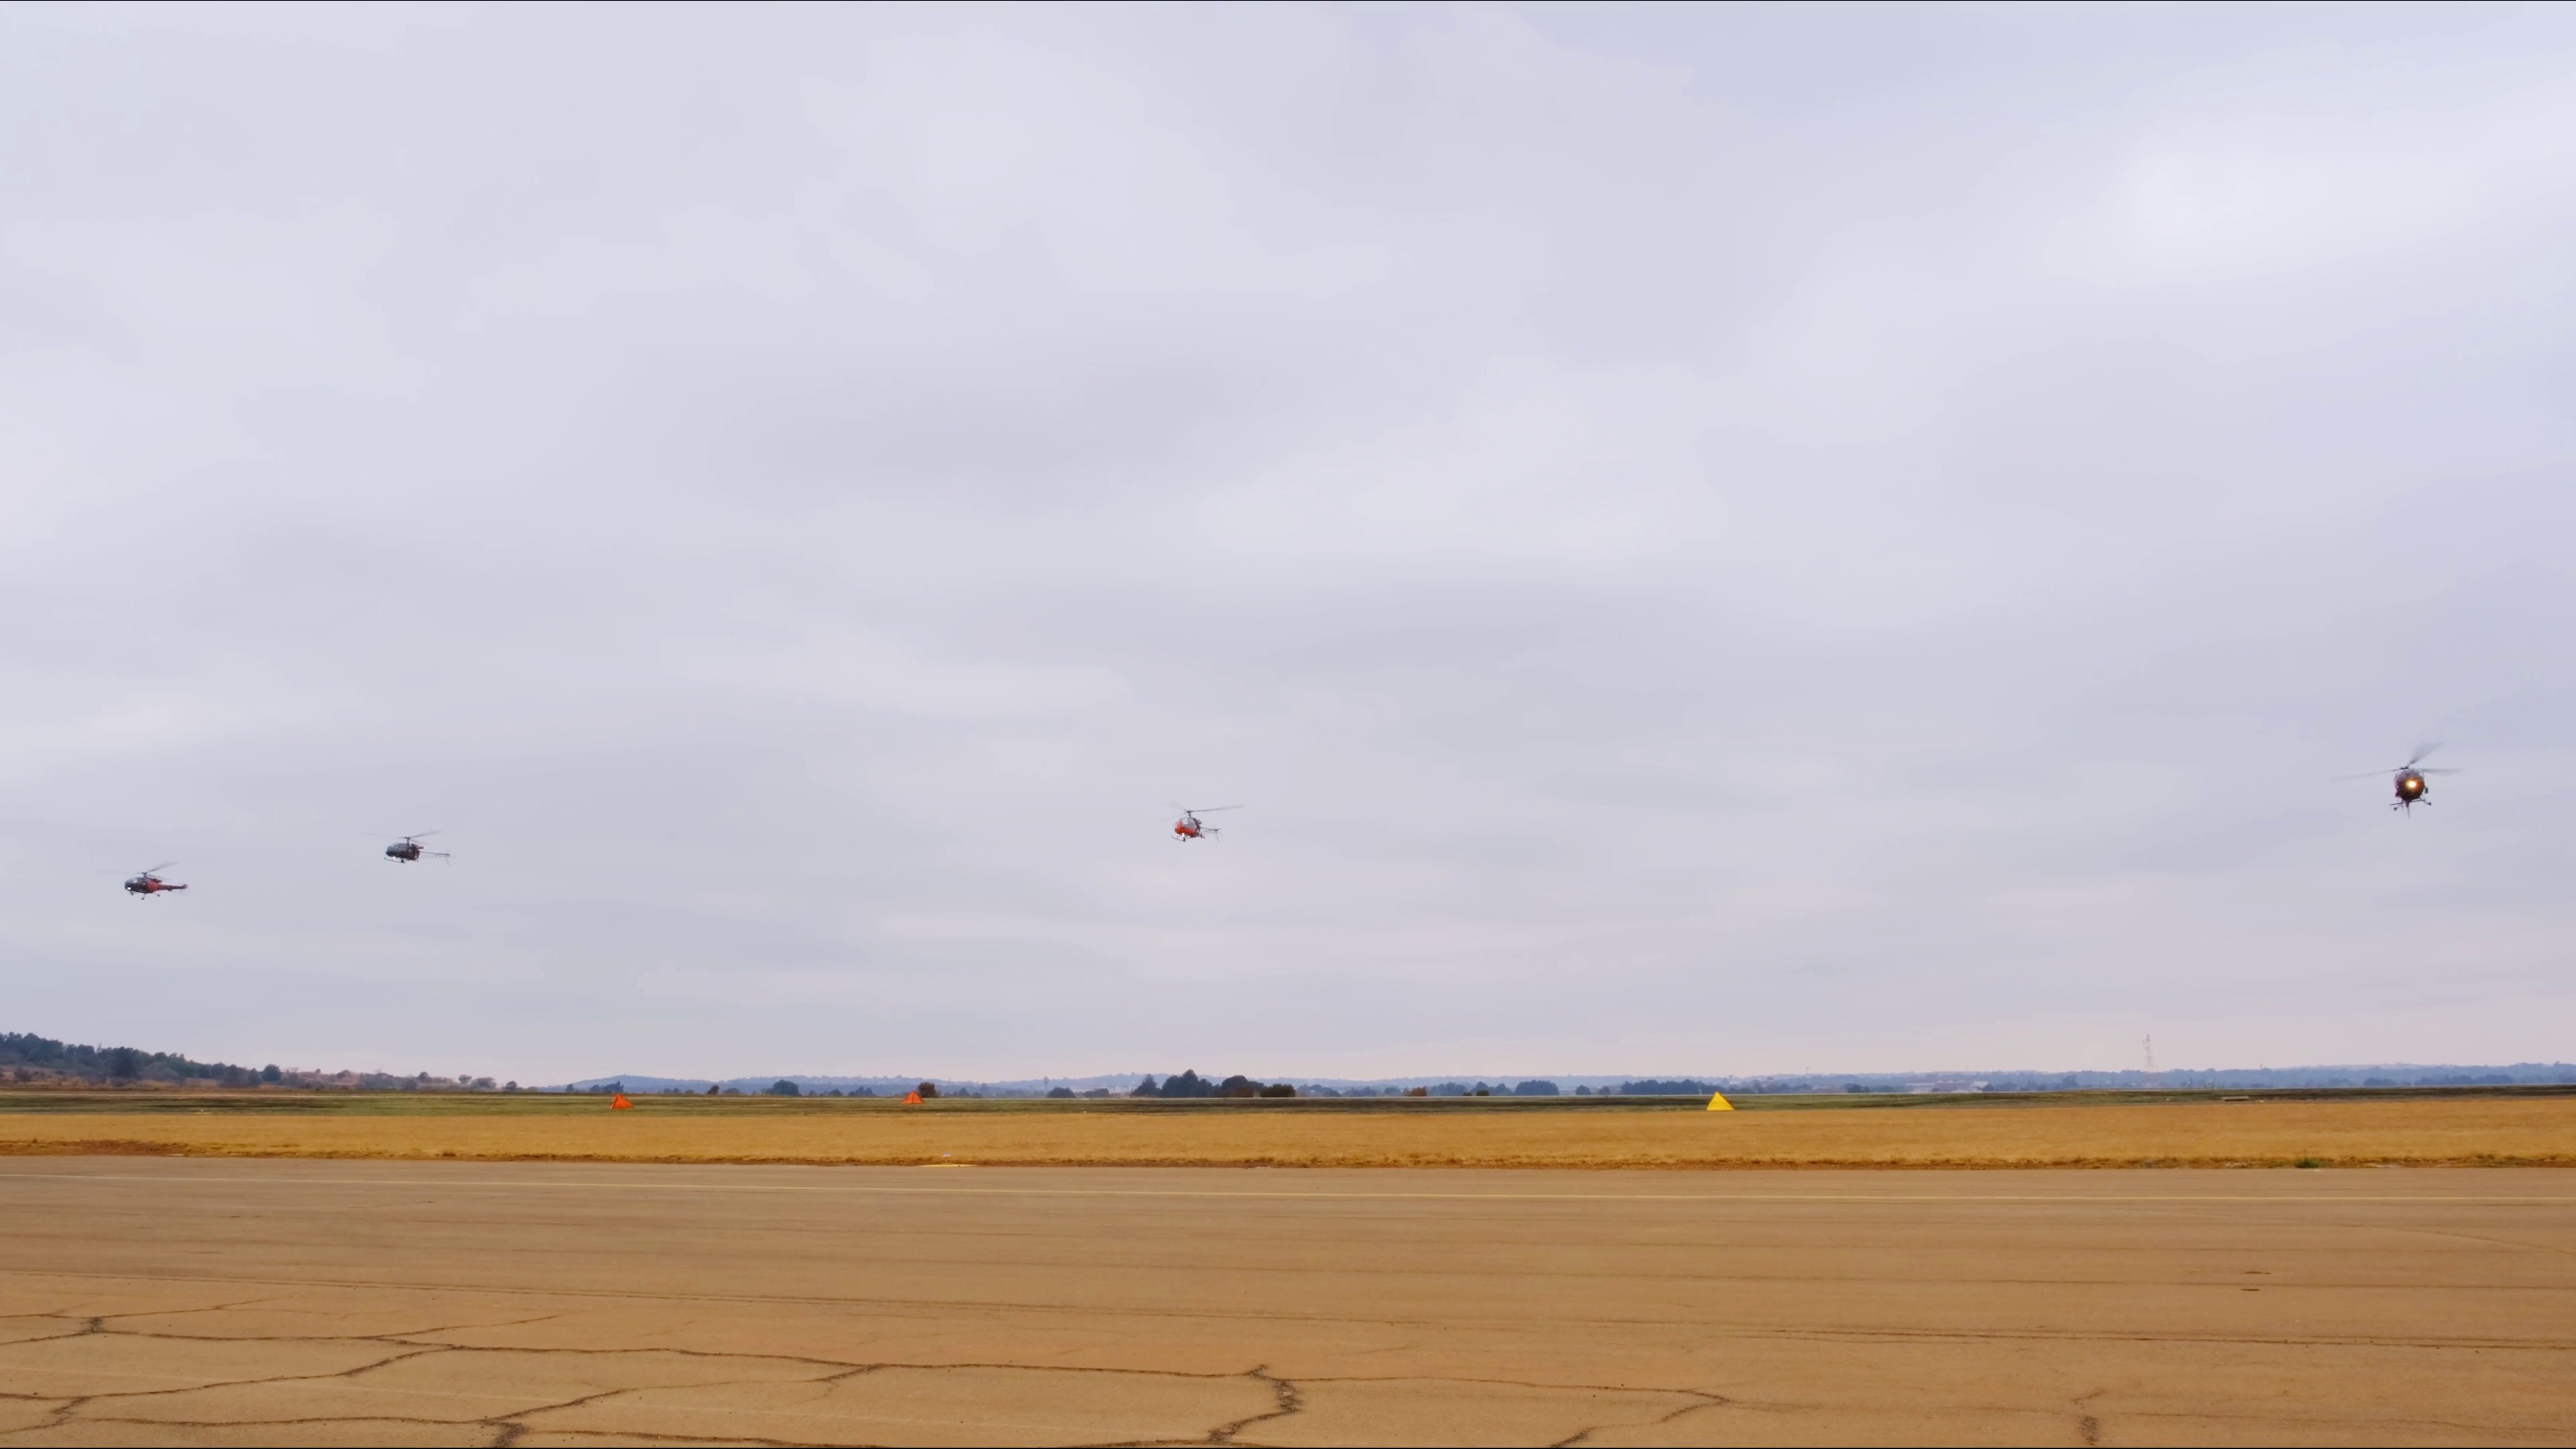heli: (2353, 741, 2463, 819), (1162, 796, 1242, 846), (382, 832, 455, 870), (122, 862, 191, 902)
